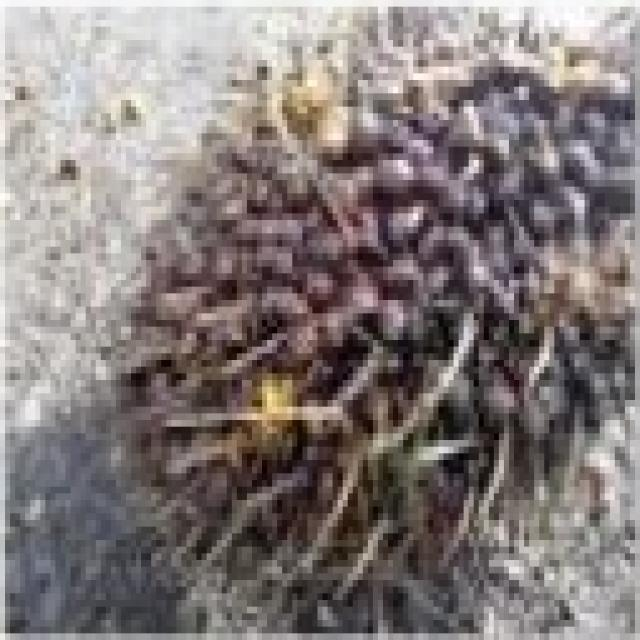FFB: (116, 42, 640, 626)
